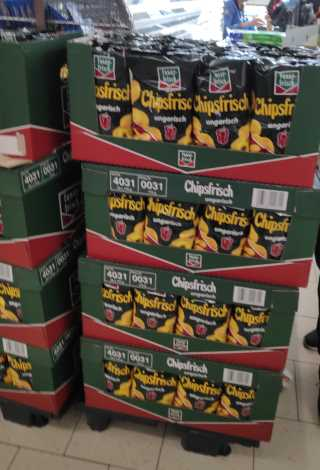chipsfrisch: (128, 48, 192, 144), (194, 59, 248, 155), (251, 59, 304, 155), (86, 40, 130, 139), (146, 195, 197, 248), (199, 204, 248, 256), (178, 295, 229, 344), (106, 190, 144, 241), (134, 288, 176, 333), (176, 373, 219, 413), (133, 366, 175, 405), (101, 284, 133, 329)
